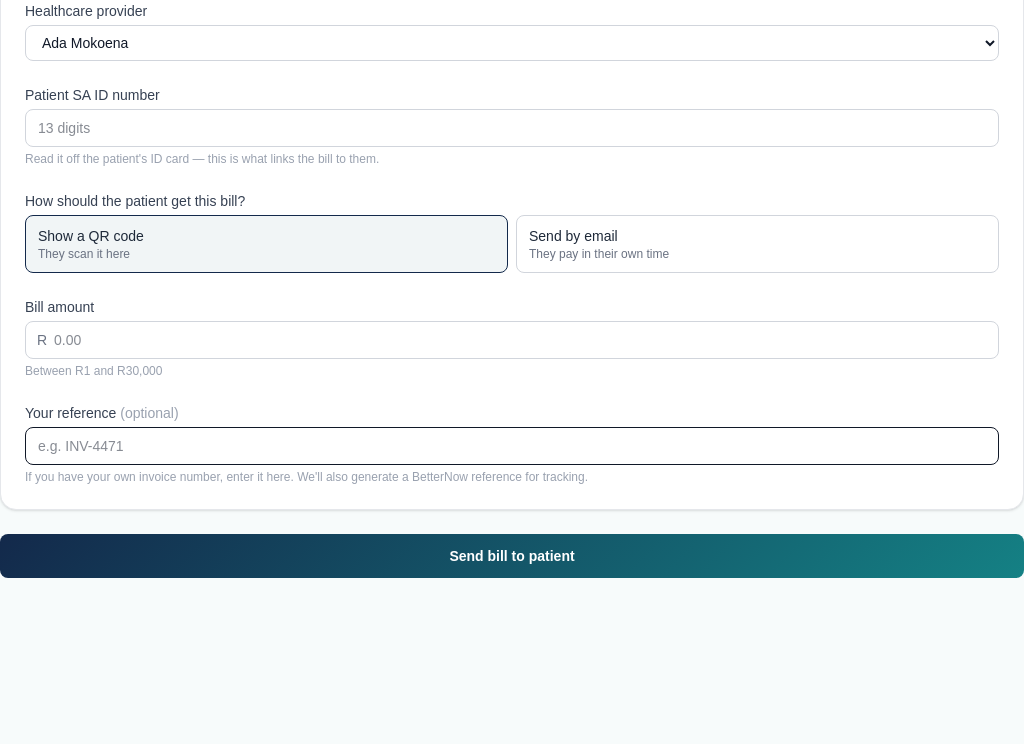
Test case: the client-side posture is the same on both surfaces › the dashboard blocks a checksum-invalid ID before any request
In the field with test id "bill-said-input": (512, 128) 25,109 -> 999,147, type "9001015800086"
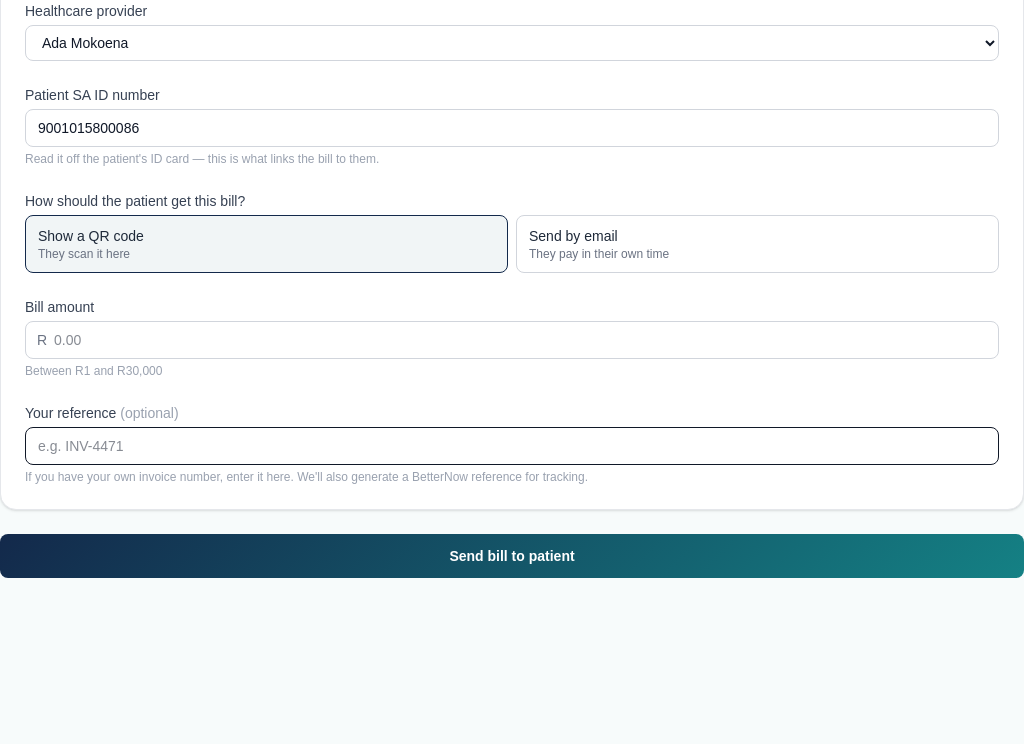
In the number field labelled "Bill amount": (512, 340) 25,321 -> 999,359, type "1000"
(page scrolled)
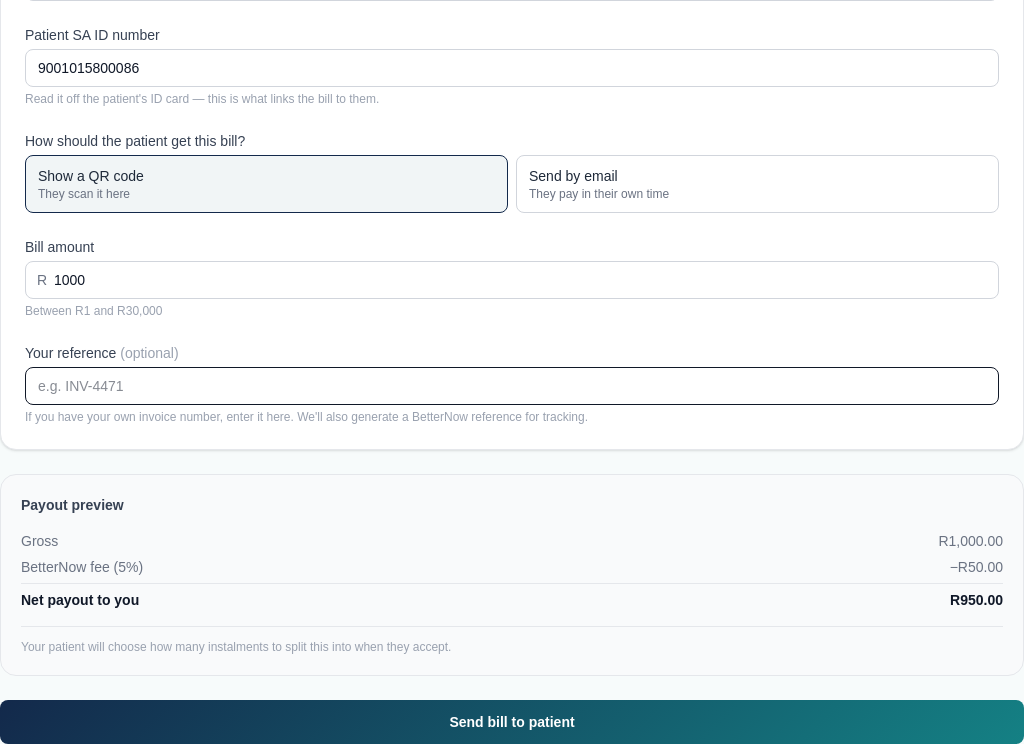
Click the button with test id "submit-bill": (512, 722) 0,700 -> 1023,743
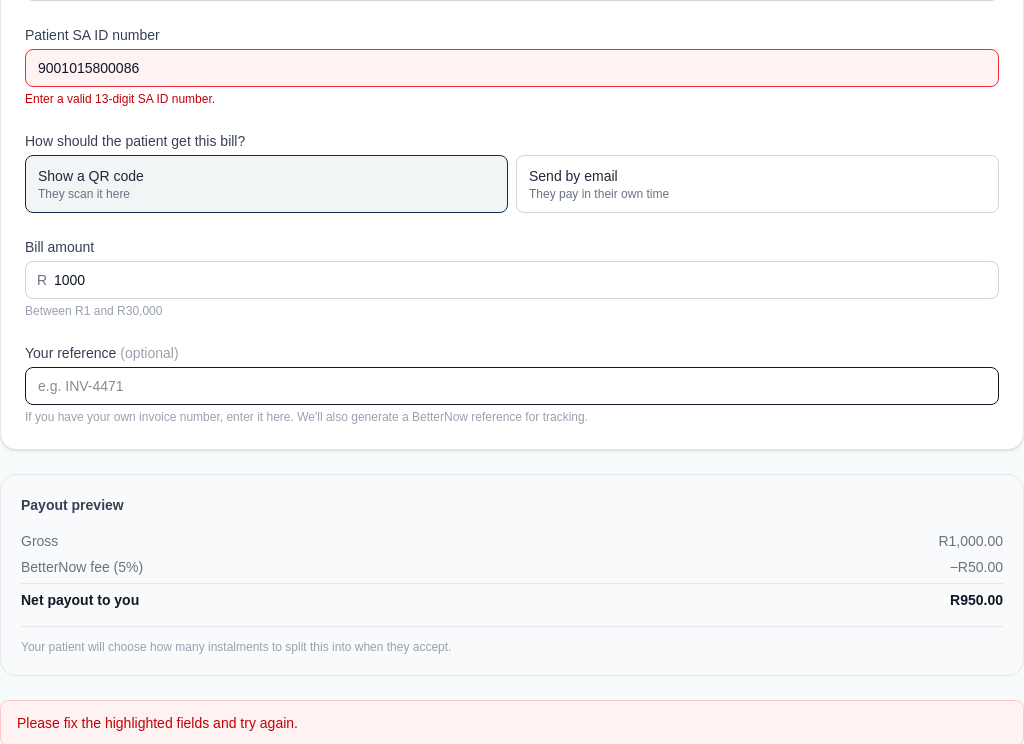
expect the message with test id "said-error" shows "valid 13-digit SA ID": met, box 25,92 -> 215,106
